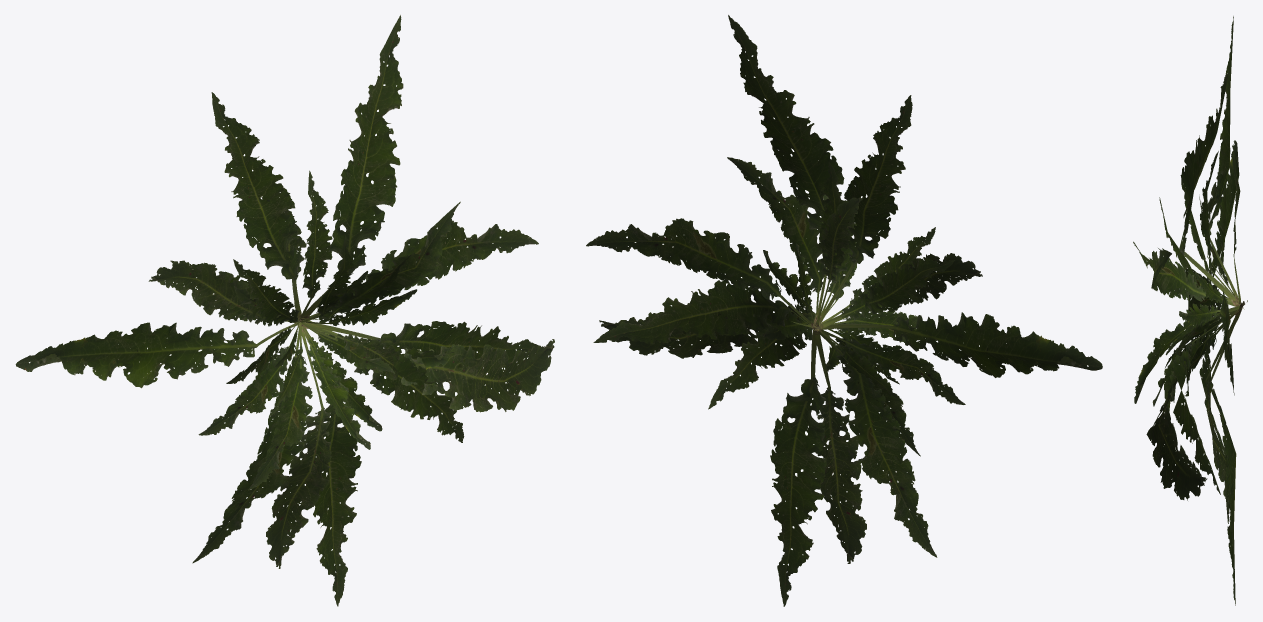
File: Weed_03_Var1_LOD0.fbx
3 renders of one model, left to right at view 1: azimuth 30°, elevation 25°; view 2: azimuth 150°, elevation 25°; view 3: azimuth 270°, elevation 25°, orthographic. The views are drawn at different scales.
Visible parts, largest first — view 1: Var1_LOD0; view 2: Var1_LOD0; view 3: Var1_LOD0.
Boxes of the visible parts, left/top/right/bottom form: Var1_LOD0: left=15, top=15, right=554, bottom=606; Var1_LOD0: left=586, top=15, right=1102, bottom=606; Var1_LOD0: left=1133, top=16, right=1247, bottom=605.
Bounding box in the file's own units: 78.83 × 83.11 × 15.57.
